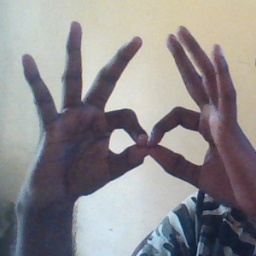B: (91, 77, 219, 183)
